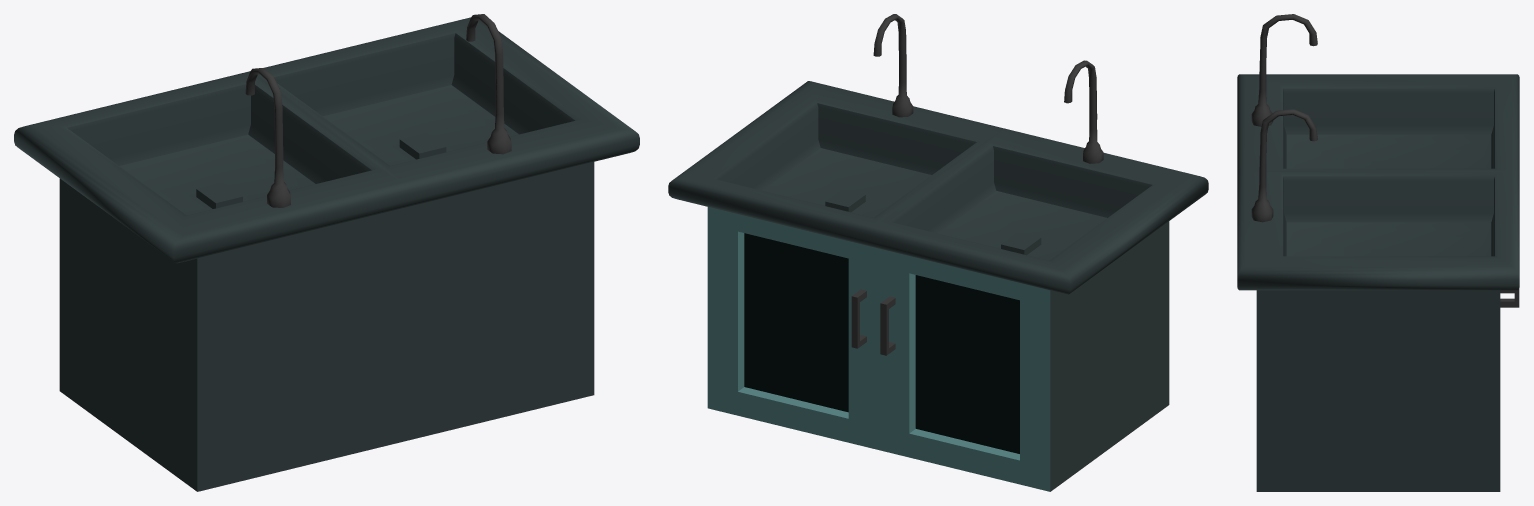
Rendered from LAVADERO_PRP.fbx.
3 views of the same model, side by side, from view 1: azimuth 30°, elevation 25°; view 2: azimuth 150°, elevation 25°; view 3: azimuth 270°, elevation 25° (orthographic). The views are drawn at different scales.
Visible parts, largest first — view 1: LAVADERO_PRP; view 2: LAVADERO_PRP; view 3: LAVADERO_PRP.
Part boxes in pixels (<box>): LAVADERO_PRP: <box>14,14,639,491</box>; LAVADERO_PRP: <box>668,14,1208,491</box>; LAVADERO_PRP: <box>1237,14,1519,491</box>.
Bounding box in the file's own units: 99.3 × 78.97 × 58.95.
